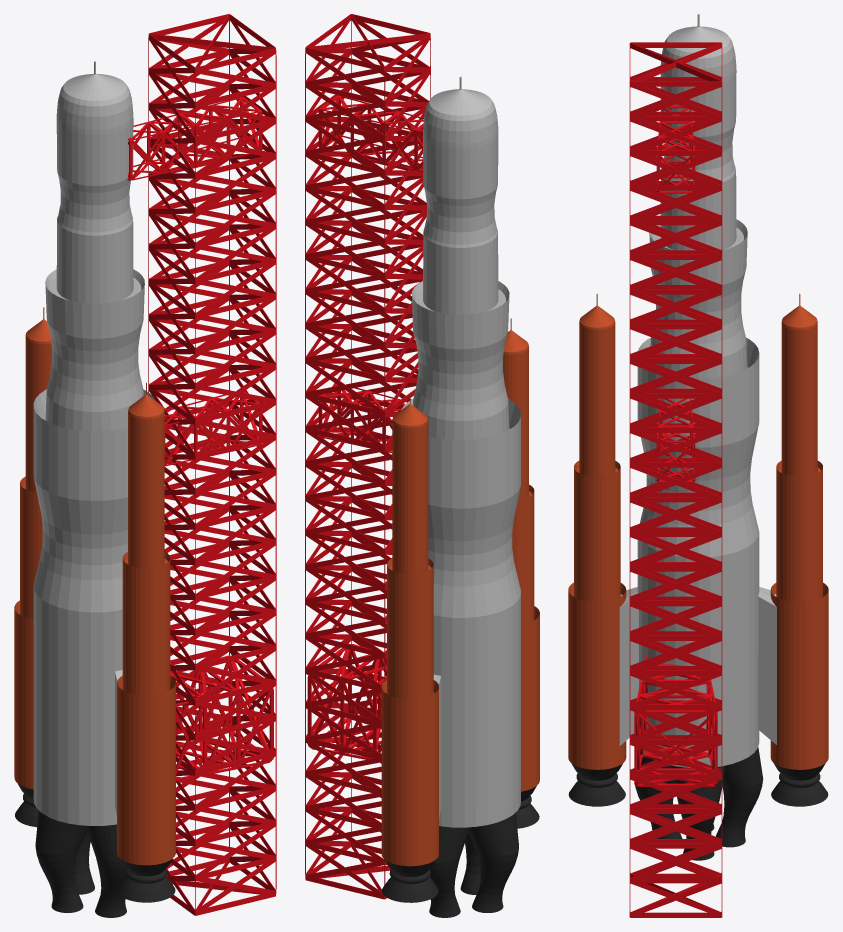
Rendered from rocket.fbx.
The picture shows the model from 3 angles, left to right: view 1: azimuth 30°, elevation 25°; view 2: azimuth 150°, elevation 25°; view 3: azimuth 270°, elevation 25°; orthographic projection.
Parts seen in each view (by area): view 1: Cube, Cylinder, Cylinder.001, Cylinder.002; view 2: Cylinder, Cube, Cylinder.002, Cylinder.001; view 3: Cube, Cylinder, Cylinder.002, Cylinder.001.
Part boxes in pixels (bbox=[...]): Cube: bbox=[127, 14, 276, 915]; Cylinder: bbox=[33, 61, 155, 917]; Cylinder.001: bbox=[117, 382, 175, 902]; Cylinder.002: bbox=[14, 307, 51, 827]; Cylinder: bbox=[401, 76, 520, 917]; Cube: bbox=[305, 14, 430, 899]; Cylinder.002: bbox=[381, 392, 438, 902]; Cylinder.001: bbox=[503, 318, 539, 828]; Cube: bbox=[629, 42, 722, 917]; Cylinder: bbox=[619, 14, 776, 860]; Cylinder.002: bbox=[770, 293, 828, 806]; Cylinder.001: bbox=[568, 293, 626, 806].
Bounding box in the file's own units: 503 × 2006 × 566.
